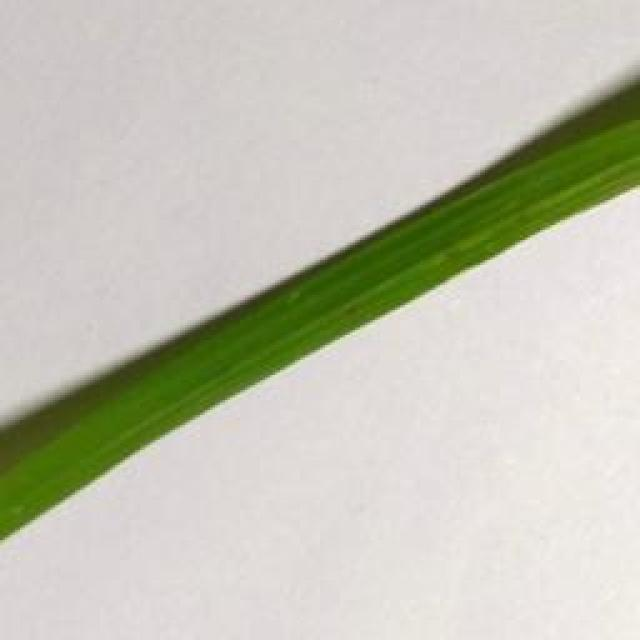Brown_Spot: (340, 283, 367, 322)
